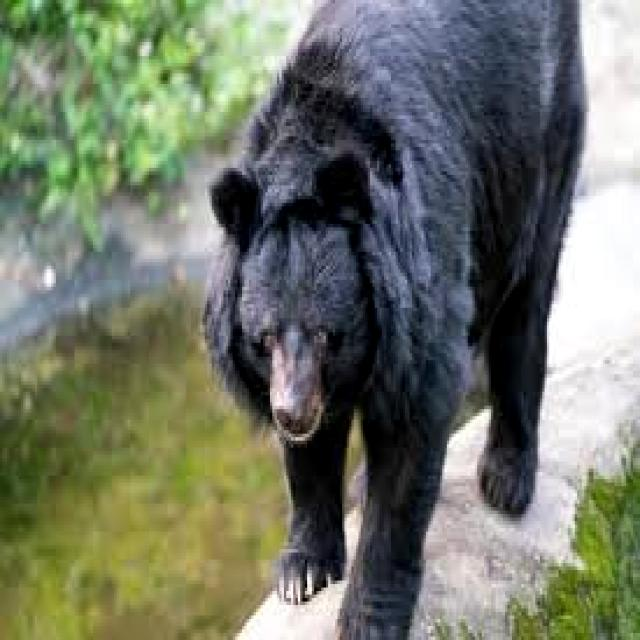bear: (214, 0, 559, 640)
